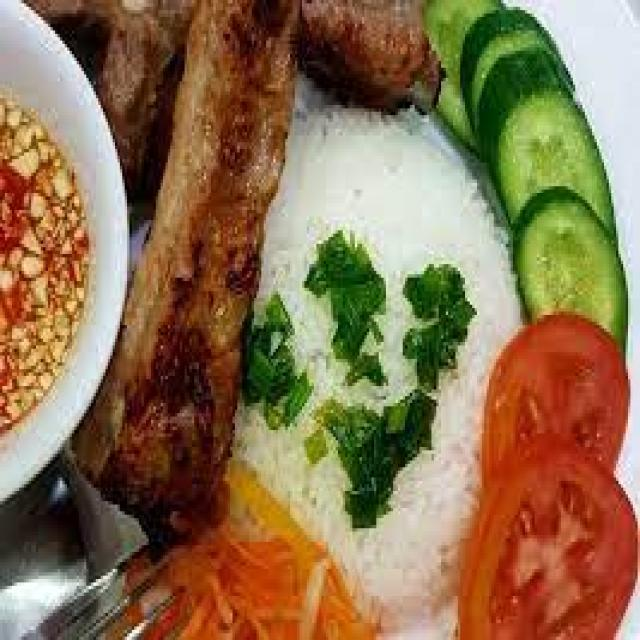ca chua: (460, 436, 638, 637), (484, 313, 631, 492)
com: (233, 105, 515, 610)
dua leo: (475, 44, 611, 227), (513, 186, 626, 349)
nuoc mam: (0, 91, 91, 433)
